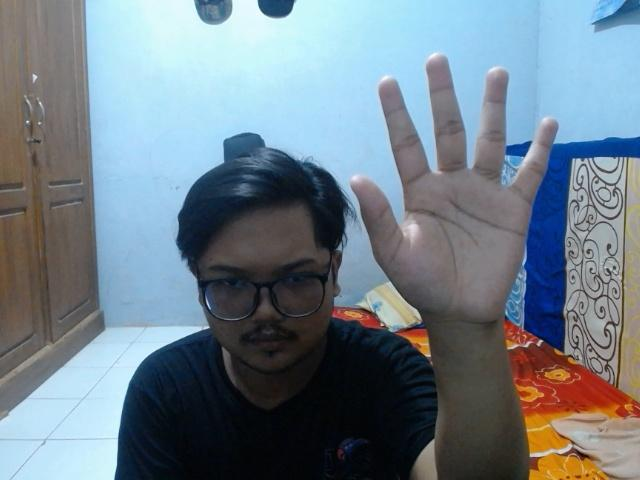Release: (343, 47, 562, 334)
